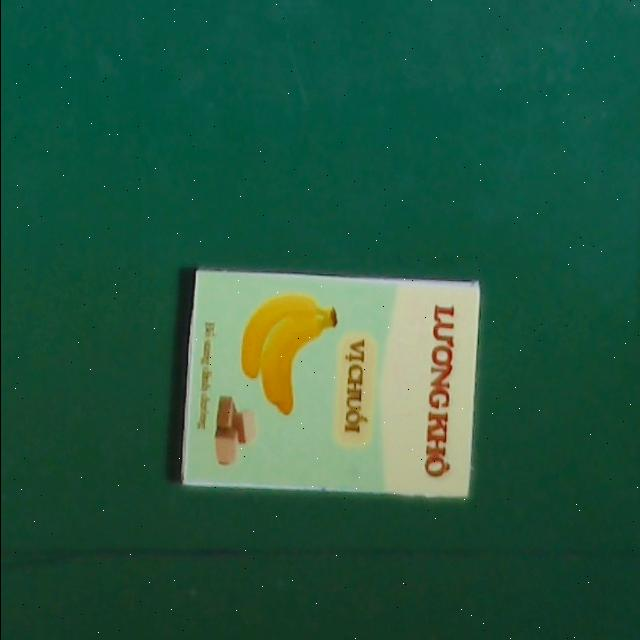chuoi: (181, 268, 478, 497)
